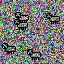sheep: (15, 11, 29, 23), (2, 42, 16, 54), (46, 13, 61, 24), (14, 19, 28, 30), (27, 49, 41, 60)
